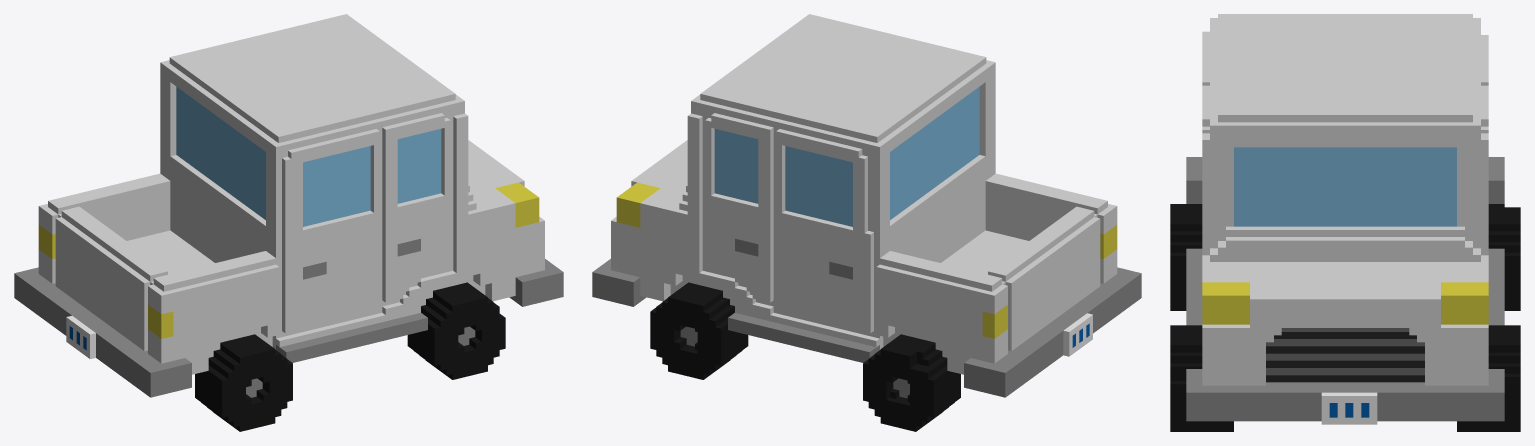
The model's file is car.obj.
3 renders of one model, left to right at view 1: azimuth 30°, elevation 25°; view 2: azimuth 150°, elevation 25°; view 3: azimuth 270°, elevation 25°, orthographic. The views are drawn at different scales.
Visible parts, largest first — view 1: car; view 2: car; view 3: car.
Part boxes in pixels (bbox=[...]): car: bbox=[14, 14, 563, 431]; car: bbox=[592, 14, 1141, 431]; car: bbox=[1170, 14, 1520, 431].
Size of the model in its own units: 72 by 43 by 44.
